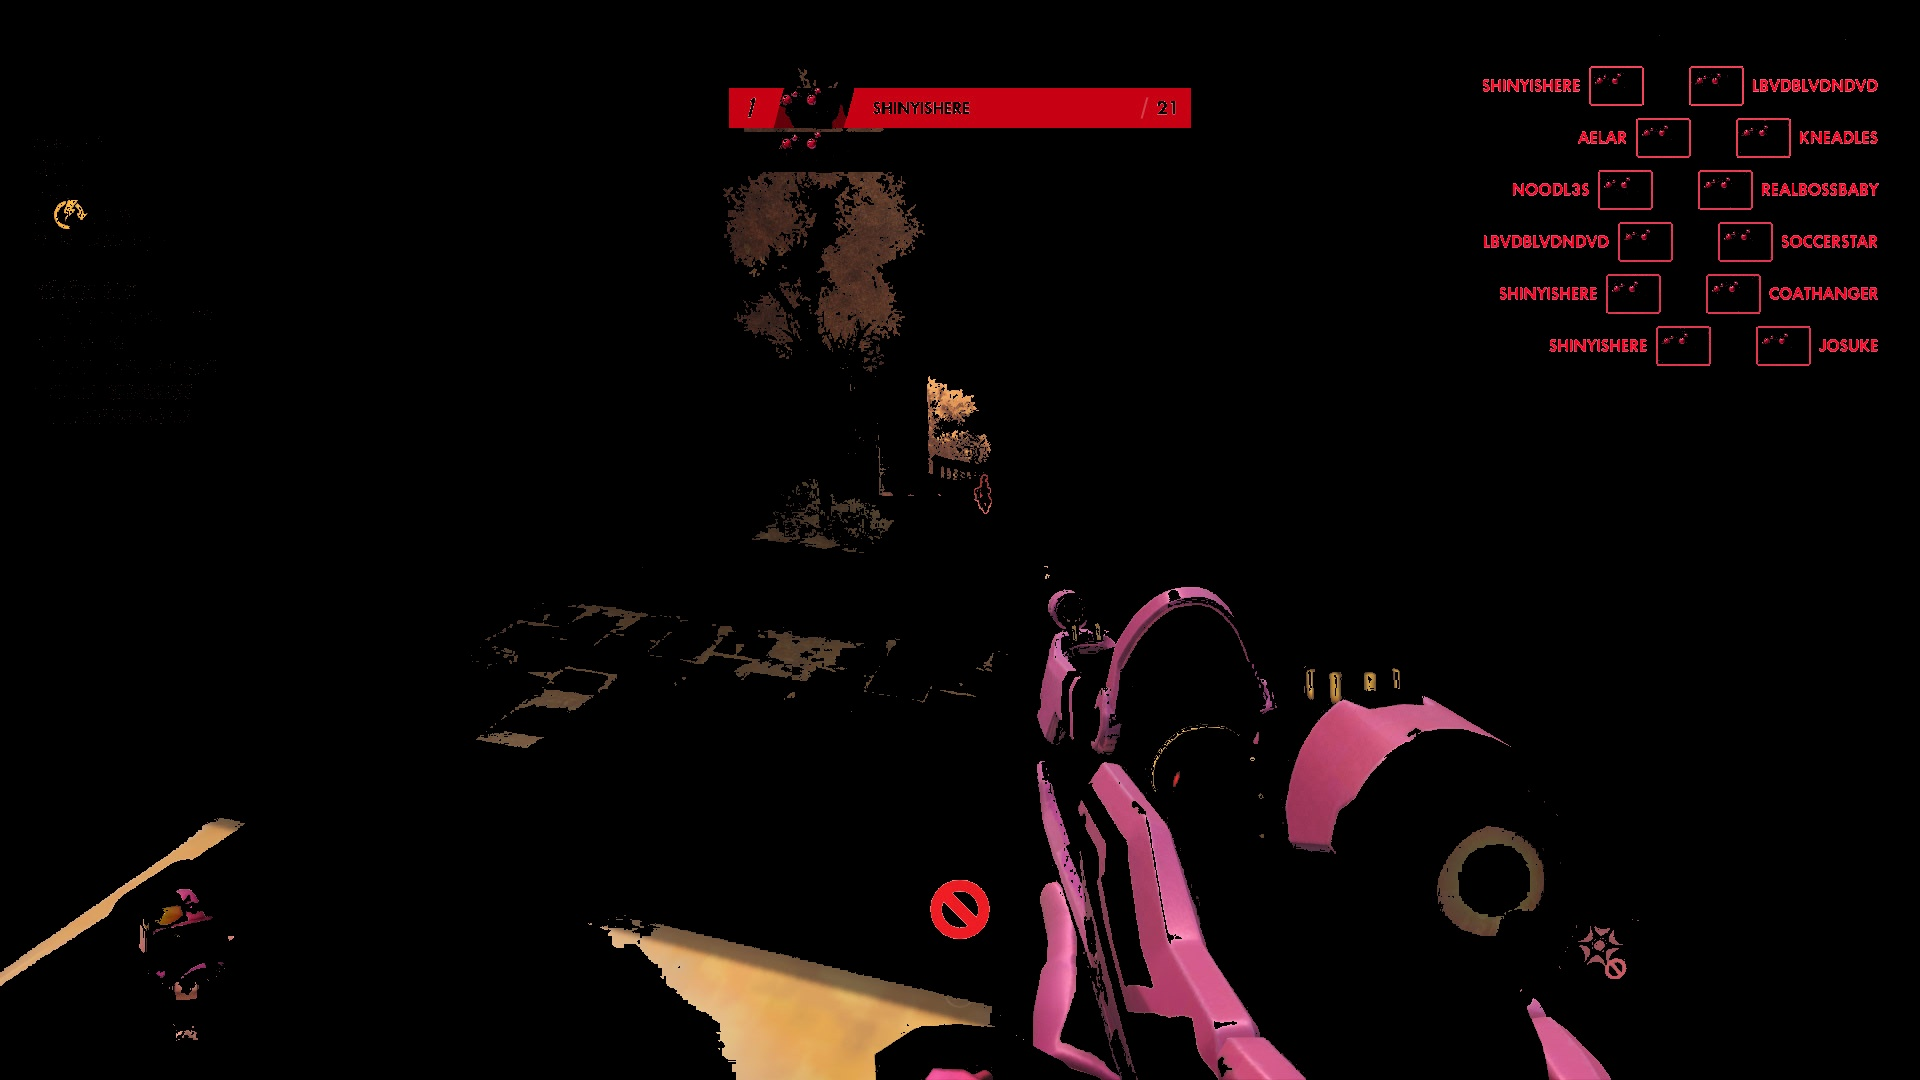widowmaker: (975, 475, 994, 514)
